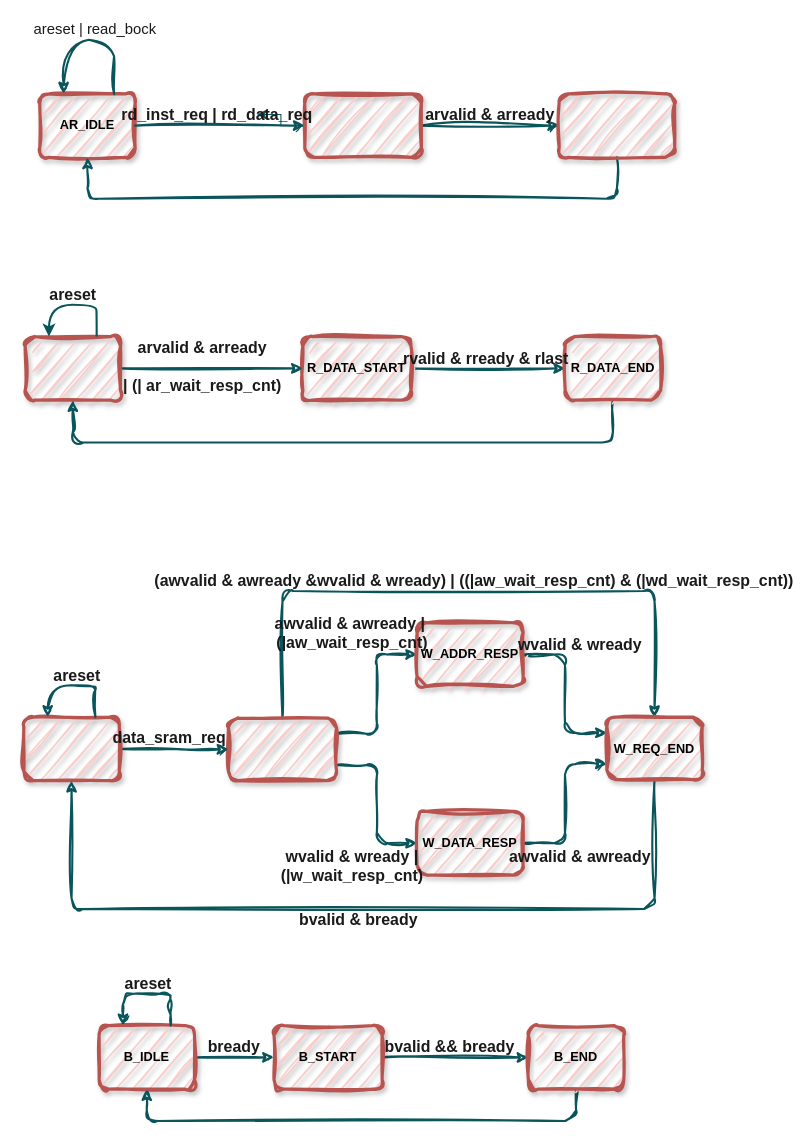
Some shapes in this 811 by 1148 pixel diagram are drawn without their labels. Here are the shapes that lost their labels. From the top down, the centre of each, then its label:
(x=363, y=126): AR_REQ_START
(x=617, y=126): AR_REQ_END
(x=73, y=369): R_IDLE
(x=72, y=750): W_IDLE
(x=283, y=750): W_DATA_START
